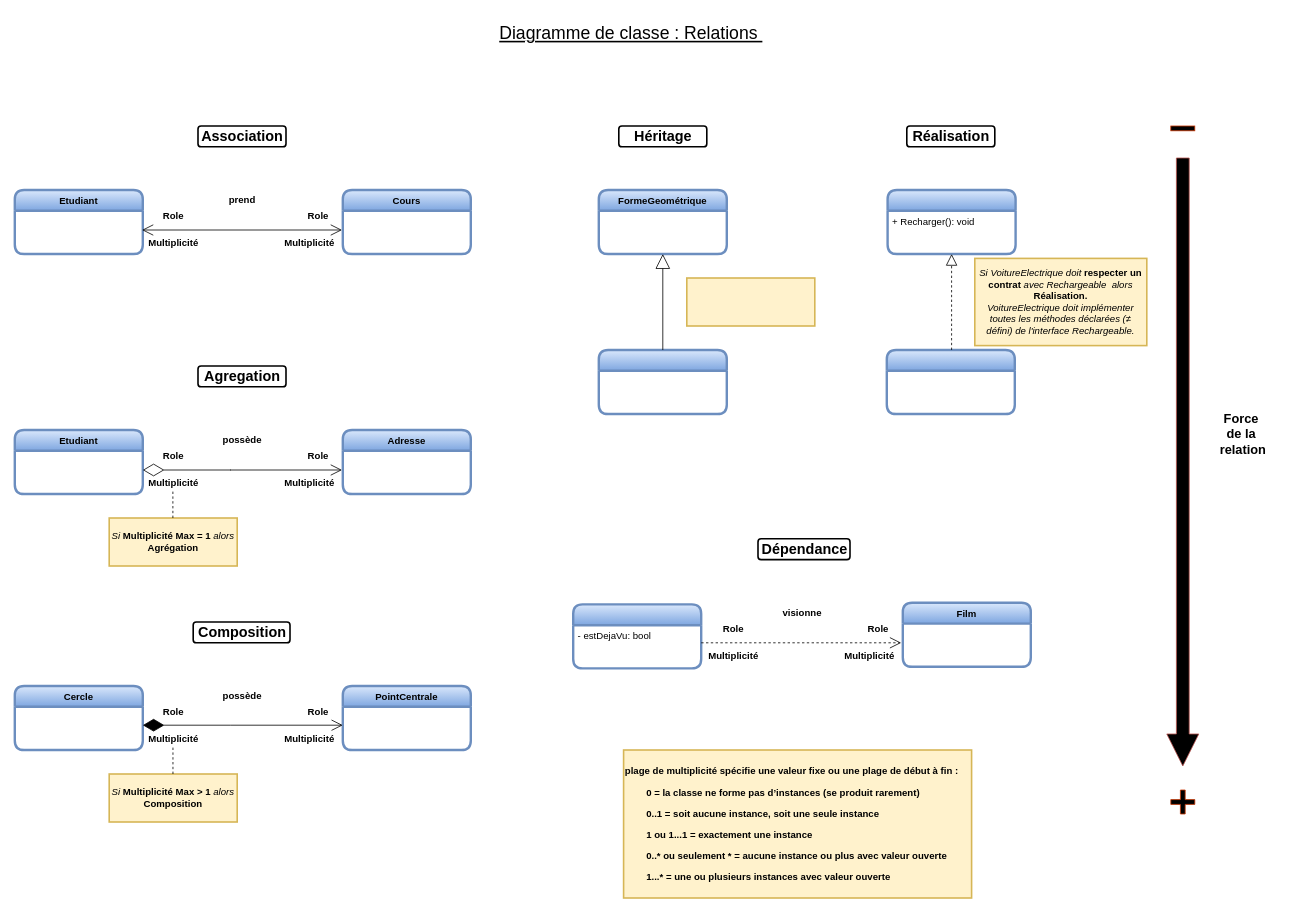
This 1293x912 diagram has some shape labels left out. The box of each missing label's shape, as (x1, y1, x2, y2) in pixels:
Personne: (572, 603, 702, 669)
Rechargeable: (886, 188, 1016, 255)
Rectangle: (597, 348, 728, 415)
Si Rectangle est un(e) FormeGeometrique alors Héritage: (686, 277, 815, 326)
VoitureElectrique: (885, 348, 1016, 415)
